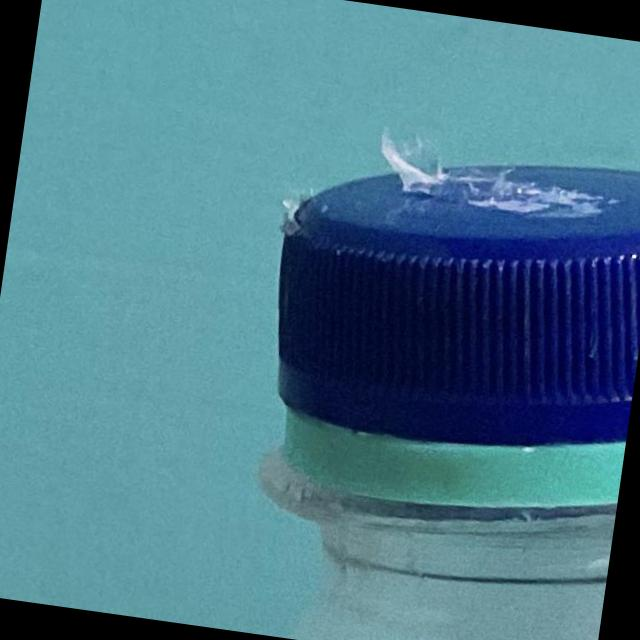Good-cap-Df0S: (235, 106, 640, 551)
